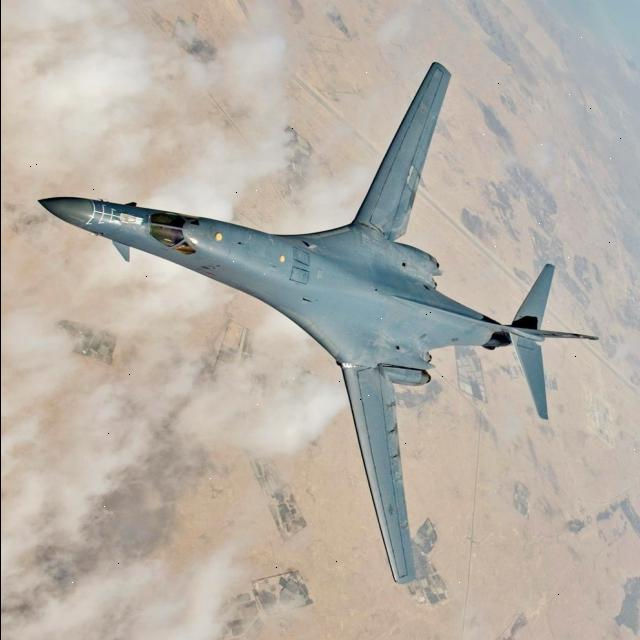B1: (11, 51, 600, 594)
